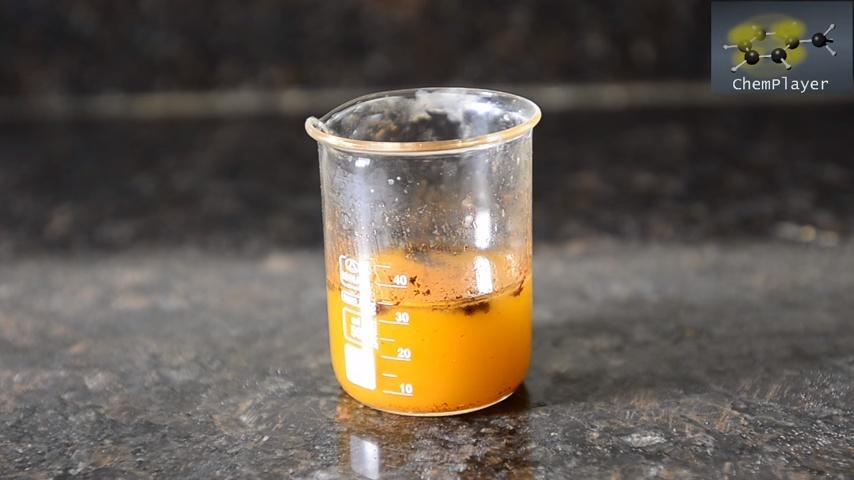Beaker: (301, 83, 543, 417)
